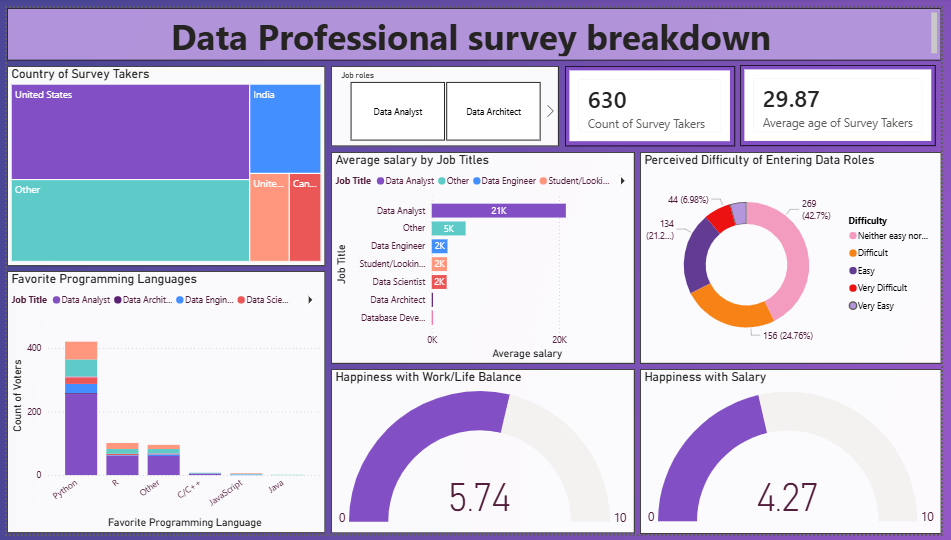

The dashboard page shown, as its layout file describes it:
{"tool":"powerbi","page":{"name":"Page 1","canvas":[1280,720],"ordinal":0},"visuals":[{"type":"textbox","box":[0,0,1280,71.6],"z":0},{"type":"cardVisual","fields":{"Data":["CountNonNull(Data Professional Survey.Unique ID)"]},"box":[764.4,79.5,232.9,109.6],"z":1000},{"type":"cardVisual","fields":{"Data":["Avg(Data Professional Survey.Q10 - Current Age)"]},"box":[1004.1,78.1,268.5,111],"z":2000},{"type":"barChart","title":"Average salary by Job Titles","fields":{"Category":["Data Professional Survey.Q1 - Which Title Best Fits your Current Role?.1"],"Y":["Sum(Data Professional Survey.Average salary)"],"Series":["Data Professional Survey.Q1 - Which Title Best Fits your Current Role?.1"]},"box":[443.4,197.6,415.6,289.8],"z":3000},{"type":"columnChart","title":"Favorite Programming Languages","fields":{"Category":["Data Professional Survey.Q5 - Favorite Programming Language.1"],"Y":["CountNonNull(Data Professional Survey.Unique ID)"],"Series":["Data Professional Survey.Q1 - Which Title Best Fits your Current Role?.1"]},"box":[0,360,436.1,358.5],"z":4000},{"type":"treemap","title":"Country of Survey Takers","fields":{"Group":["Data Professional Survey.Q11 - Which Country do you live in?.1"],"Values":["CountNonNull(Data Professional Survey.Q11 - Which Country do you live in?.1)"]},"box":[0,79,436.1,273.7],"z":5000},{"type":"gauge","title":"Happiness with Work/Life Balance","fields":{"Y":["Avg(Data Professional Survey.Q6 - How Happy are you in your Current Position with the following? (Work/Life Balance))"],"MinValue":["Min(Data Professional Survey.Q6 - How Happy are you in your Current Position with the following? (Work/Life Balance))1"],"MaxValue":["Max(Data Professional Survey.Q6 - How Happy are you in your Current Position with the following? (Work/Life Balance))2"]},"box":[443.4,494.6,415.6,225.4],"z":6000},{"type":"gauge","title":"Happiness with Salary","fields":{"MinValue":["Min(Data Professional Survey.Q6 - How Happy are you in your Current Position with the following? (Salary))"],"MaxValue":["Max(Data Professional Survey.Q6 - How Happy are you in your Current Position with the following? (Salary))"],"Y":["Avg(Data Professional Survey.Q6 - How Happy are you in your Current Position with the following? (Salary))"]},"box":[867.5,494.2,413.1,225.8],"z":7000},{"type":"donutChart","title":"Perceived Difficulty of Entering Data Roles","fields":{"Category":["Data Professional Survey.Q7 - How difficult was it for you to break into Data?"],"Y":["CountNonNull(Data Professional Survey.Q7 - How difficult was it for you to break into Data?)"]},"box":[867.8,197.6,412.7,289.8],"z":8000},{"type":"slicer","fields":{"Values":["Data Professional Survey.Q1 - Which Title Best Fits your Current Role?.1"]},"box":[443.8,79.5,312.3,109.6],"z":9000}]}

Visuals, with their boxes in screenshot pixels (x1, y1, x2, y2), scaled from the page's 1280x720 canvas onto the 951x540 screenshot:
textbox: (x1=0, y1=0, x2=950, y2=54)
cardVisual - CountNonNull(Data Professional Survey.Unique ID): (x1=568, y1=60, x2=741, y2=142)
cardVisual - Avg(Data Professional Survey.Q10 - Current Age): (x1=746, y1=59, x2=946, y2=142)
"Average salary by Job Titles" barChart: (x1=329, y1=148, x2=638, y2=366)
"Favorite Programming Languages" columnChart: (x1=0, y1=270, x2=324, y2=539)
"Country of Survey Takers" treemap: (x1=0, y1=59, x2=324, y2=265)
"Happiness with Work/Life Balance" gauge: (x1=329, y1=371, x2=638, y2=539)
"Happiness with Salary" gauge: (x1=645, y1=371, x2=950, y2=539)
"Perceived Difficulty of Entering Data Roles" donutChart: (x1=645, y1=148, x2=950, y2=366)
slicer - Data Professional Survey.Q1 - Which Title Best Fits your Current Role?.1: (x1=330, y1=60, x2=562, y2=142)
